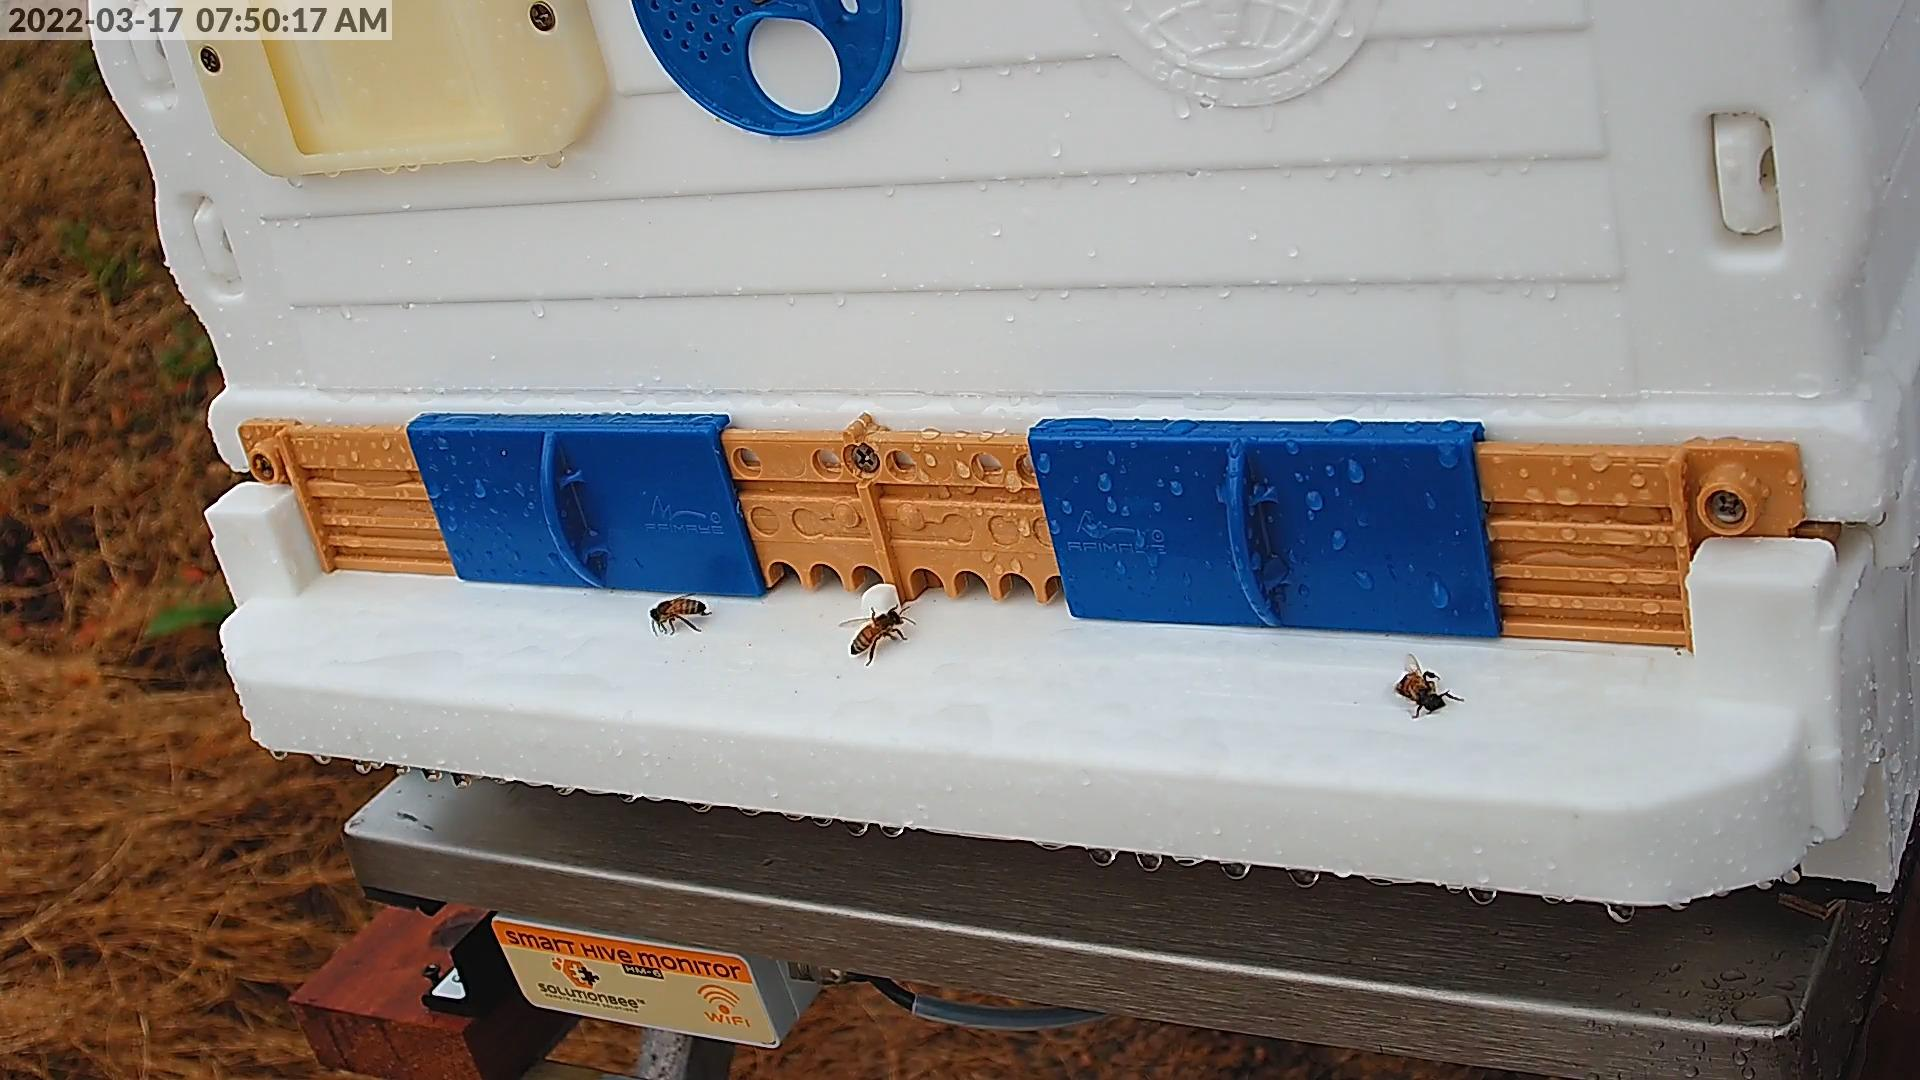bee: (852, 608, 903, 658), (1400, 673, 1443, 711), (650, 596, 707, 620)
